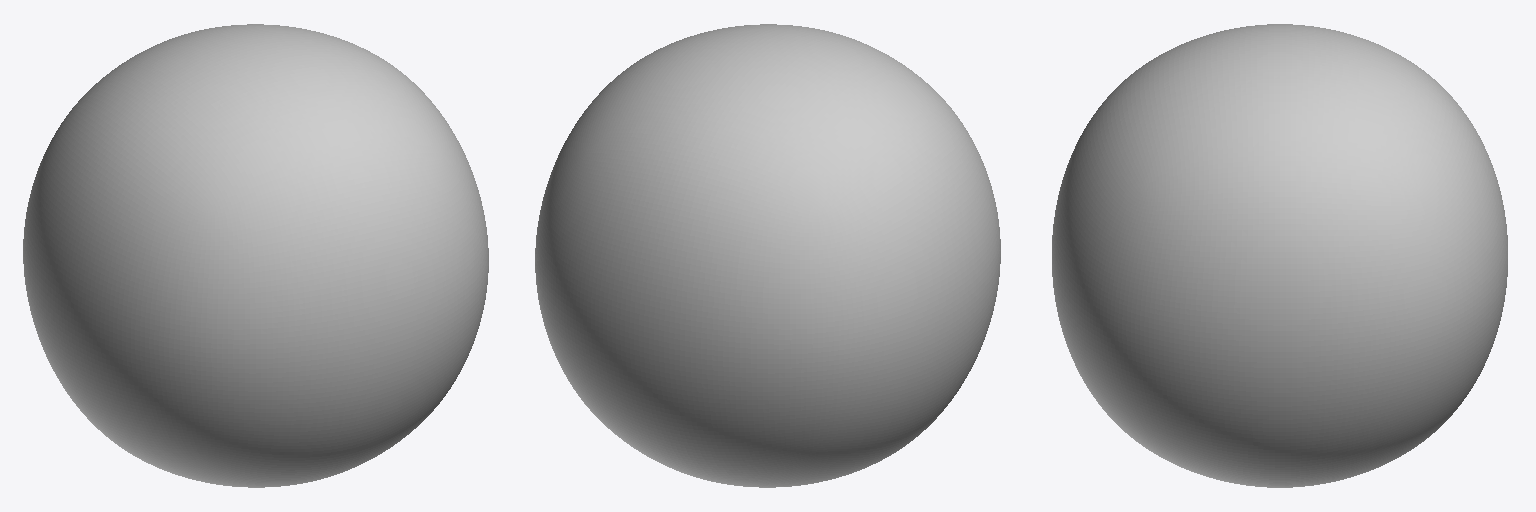
The model's file is PlanetsBase.obj.
The picture shows the model from 3 angles: view 1: azimuth 30°, elevation 25°; view 2: azimuth 150°, elevation 25°; view 3: azimuth 270°, elevation 25°; orthographic projection.
Size of the model in its own units: 1.68 by 1.68 by 1.68.